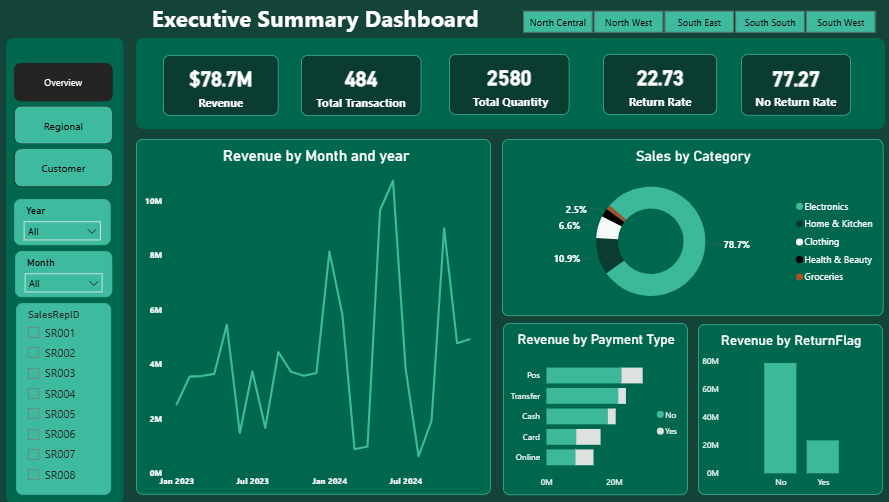

Layout of this report page (visuals, bound fields, positions):
{"tool":"powerbi","page":{"name":"Overview","canvas":[1280,720],"ordinal":0},"visuals":[{"type":"shape","box":[200,55,1070,130],"z":0},{"type":"card","fields":{"Values":["Sum(Nigerian_Retail_Sales_Raw11111.TotalSales_NGN)"]},"box":[239.1,80,165,86.7],"z":1000},{"type":"card","fields":{"Values":["CountNonNull(Nigerian_Retail_Sales_Raw11111.TransactionID)"]},"box":[435.8,80,171.7,86.7],"z":2000},{"type":"card","fields":{"Values":["Sum(Nigerian_Retail_Sales_Raw11111.Quantity)"]},"box":[647.5,78.3,171.7,86.7],"z":3000},{"type":"donutChart","title":"Sales by Category","fields":{"Category":["Nigerian_Retail_Sales_Raw11111.Category"],"Y":["Sum(Nigerian_Retail_Sales_Raw11111.TotalSales_NGN)"]},"box":[723.3,200,545,253.3],"z":4000},{"type":"lineChart","title":"Revenue by Month and year","fields":{"Y":["Sum(Nigerian_Retail_Sales_Raw11111.TotalSales_NGN)"],"Category":["Date.Date.Variation.Date Hierarchy.Year","Date.Date.Variation.Date Hierarchy.Month"]},"box":[200,200,506.7,508.3],"z":5000},{"type":"card","fields":{"Values":["Measure.Return Rate"]},"box":[867.5,78.3,163.3,86.7],"z":6000},{"type":"pageNavigator","box":[14,166,120,142],"z":7000},{"type":"textbox","box":[204,0,504,56],"z":8000},{"type":"shape","box":[14.3,55.4,168,665],"z":9000},{"type":"pageNavigator","box":[25,91.2,141.2,178.8],"z":10000},{"type":"slicer","fields":{"Values":["Date.Year Hierarchy.Year"]},"box":[26.3,285.3,138,66],"z":11000},{"type":"slicer","fields":{"Values":["Nigerian_Retail_Sales_Raw11111.SalesRepID"]},"box":[28.6,434.4,135.9,273.5],"z":12000},{"type":"slicer","fields":{"Values":["Nigerian_Retail_Sales_Raw11111.Region"]},"box":[726.7,10,553.3,45],"z":13000},{"type":"slicer","fields":{"Values":["LocalDateTable_c215ab01-d81c-4b8d-8ac1-980cf39dec1b.Month"]},"box":[26.8,359.3,139.4,66.1],"z":14000},{"type":"columnChart","title":"Revenue by ReturnFlag","fields":{"Category":["Nigerian_Retail_Sales_Raw11111.ReturnFlag"],"Y":["Sum(Nigerian_Retail_Sales_Raw11111.TotalSales_NGN)"]},"box":[1002.9,464.3,264.3,244.3],"z":15000},{"type":"card","fields":{"Values":["Measure.No Return Rate"]},"box":[1064.1,78.3,156.7,88.3],"z":16000},{"type":"barChart","title":"Revenue by Payment Type","fields":{"Category":["Nigerian_Retail_Sales_Raw11111.PaymentType"],"Y":["Sum(Nigerian_Retail_Sales_Raw11111.TotalSales_NGN)"],"Series":["Nigerian_Retail_Sales_Raw11111.ReturnFlag"]},"box":[724.3,462.9,264.3,245.7],"z":17000}]}

Visuals, with their boxes in screenshot pixels (x1, y1, x2, y2), scaled from the page's 1280x720 canvas onto the 889x502 screenshot:
shape: Rect(139, 38, 882, 129)
card - Sum(Nigerian_Retail_Sales_Raw11111.TotalSales_NGN): Rect(166, 56, 281, 116)
card - CountNonNull(Nigerian_Retail_Sales_Raw11111.TransactionID): Rect(303, 56, 422, 116)
card - Sum(Nigerian_Retail_Sales_Raw11111.Quantity): Rect(450, 55, 569, 115)
"Sales by Category" donutChart: Rect(502, 139, 881, 316)
"Revenue by Month and year" lineChart: Rect(139, 139, 491, 494)
card - Measure.Return Rate: Rect(603, 55, 716, 115)
pageNavigator: Rect(10, 116, 93, 215)
textbox: Rect(142, 0, 492, 39)
shape: Rect(10, 39, 127, 501)
pageNavigator: Rect(17, 64, 115, 188)
slicer - Date.Year Hierarchy.Year: Rect(18, 199, 114, 245)
slicer - Nigerian_Retail_Sales_Raw11111.SalesRepID: Rect(20, 303, 114, 494)
slicer - Nigerian_Retail_Sales_Raw11111.Region: Rect(505, 7, 888, 38)
slicer - LocalDateTable_c215ab01-d81c-4b8d-8ac1-980cf39dec1b.Month: Rect(19, 251, 115, 297)
"Revenue by ReturnFlag" columnChart: Rect(697, 324, 880, 494)
card - Measure.No Return Rate: Rect(739, 55, 848, 116)
"Revenue by Payment Type" barChart: Rect(503, 323, 687, 494)
